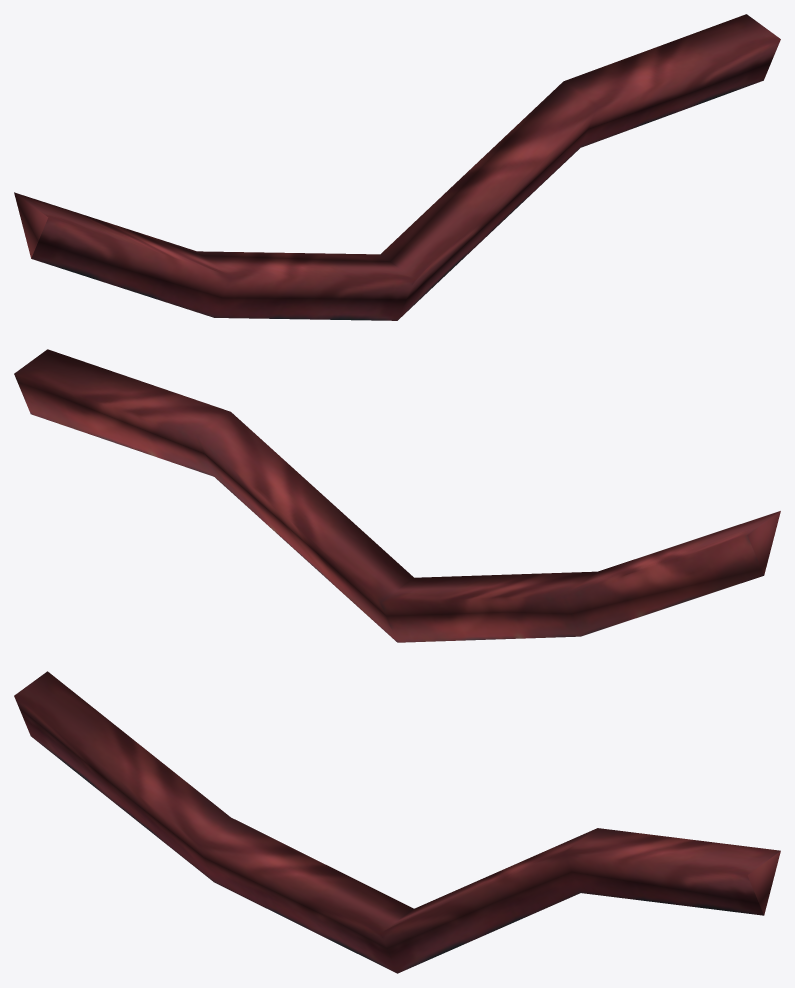
The model's file is Anmaodao_shengzi.FBX.
3 views of the same model, one above another, from view 1: azimuth 30°, elevation 25°; view 2: azimuth 150°, elevation 25°; view 3: azimuth 330°, elevation 25° (orthographic). The views are drawn at different scales.
Parts seen in each view (by area): view 1: Anmaodao_shengzi; view 2: Anmaodao_shengzi; view 3: Anmaodao_shengzi.
Part boxes in pixels (x1,y1,x2,y2): Anmaodao_shengzi: (14,14,780,320); Anmaodao_shengzi: (14,349,780,642); Anmaodao_shengzi: (14,671,780,973).
Bounding box in the file's own units: 72.87 × 7.36 × 19.7.
